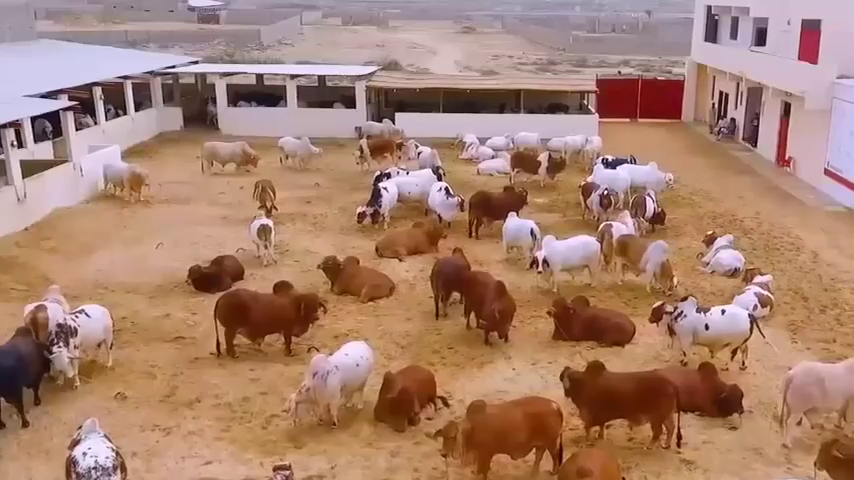bo: (552, 357, 681, 445), (266, 325, 371, 428), (428, 387, 558, 469), (641, 285, 763, 372), (206, 277, 324, 359), (775, 350, 854, 449), (32, 298, 120, 383), (449, 261, 528, 349), (548, 287, 644, 357), (368, 356, 448, 440), (655, 362, 754, 426), (2, 324, 47, 440), (526, 226, 607, 287), (57, 410, 129, 477), (317, 244, 396, 305), (609, 230, 684, 294), (463, 172, 531, 242), (22, 266, 74, 349), (371, 208, 450, 260), (607, 144, 680, 200), (492, 201, 550, 266), (389, 150, 445, 215), (546, 432, 624, 477), (94, 154, 160, 205), (354, 165, 402, 233), (694, 216, 740, 284), (730, 256, 777, 321), (510, 151, 579, 192), (432, 248, 468, 323), (187, 251, 249, 293), (803, 423, 854, 473), (192, 137, 264, 172), (616, 180, 670, 226), (470, 132, 520, 181), (271, 121, 324, 167), (567, 170, 613, 221), (424, 175, 468, 227), (592, 199, 633, 254), (584, 156, 632, 201), (344, 126, 397, 166), (243, 212, 283, 262), (247, 163, 286, 214), (408, 135, 450, 181), (451, 119, 490, 157), (351, 112, 405, 138), (508, 119, 541, 158), (551, 131, 587, 165), (475, 120, 512, 151), (30, 116, 65, 148), (577, 125, 606, 158), (67, 98, 95, 124)
